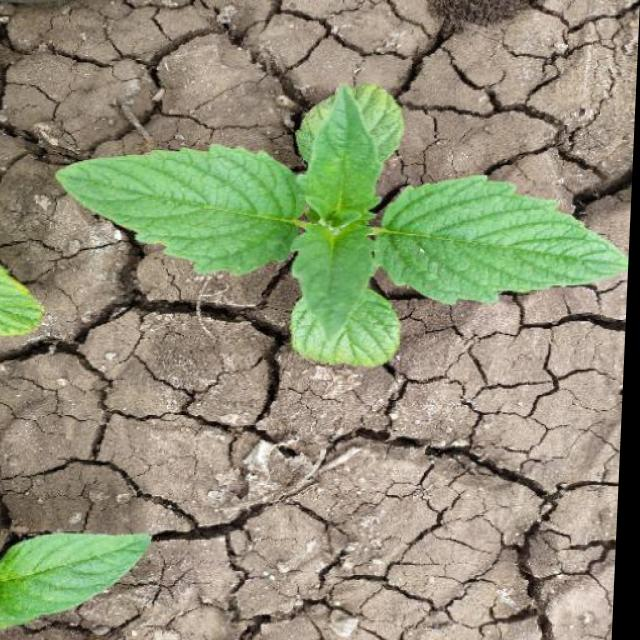crop: (42, 75, 636, 370)
